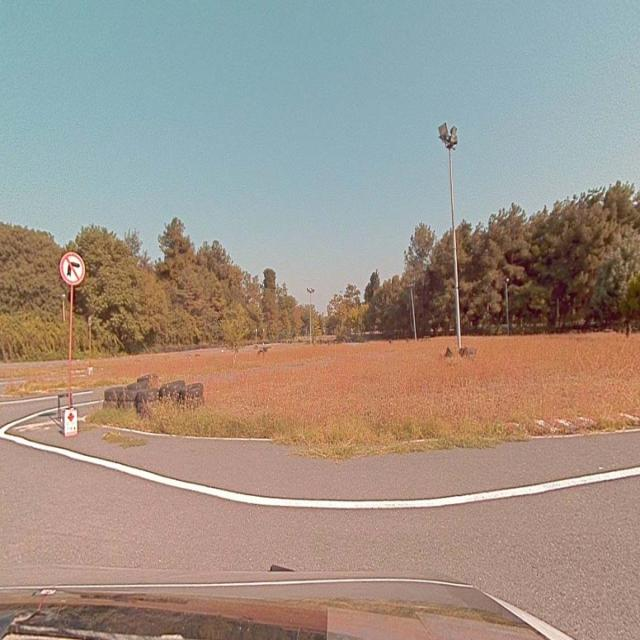sagadonulmez: (61, 251, 85, 287)
